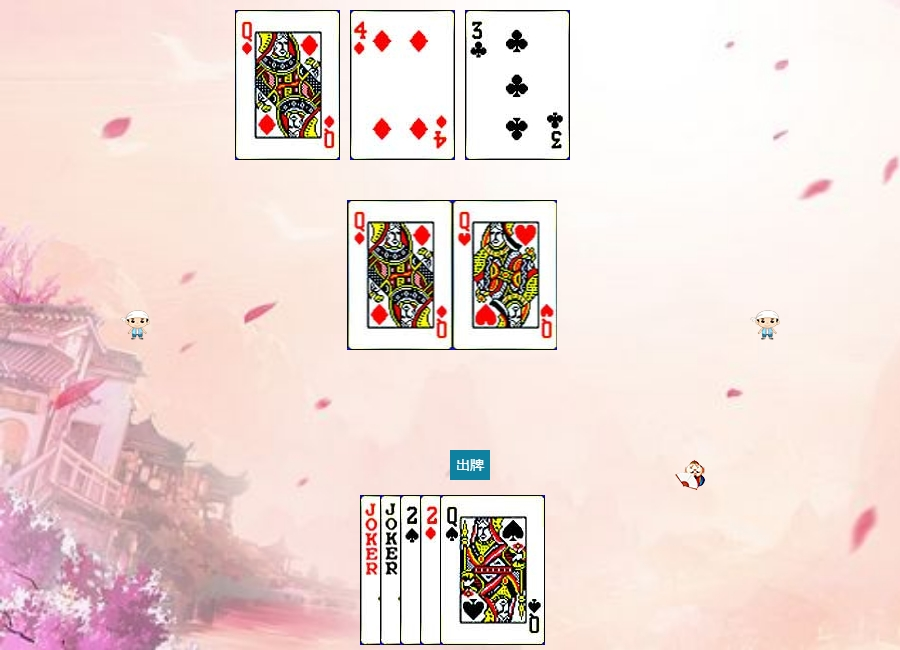12~1: (235, 10, 340, 160), (348, 200, 453, 350)
12~3: (453, 200, 558, 350)
12~4: (440, 495, 545, 645)
15~1: (420, 495, 525, 645)
15~4: (400, 495, 505, 645)
17~3: (380, 495, 485, 645)
18~4: (360, 495, 465, 645)
3~2: (465, 10, 570, 160)
4~1: (350, 10, 455, 160)
